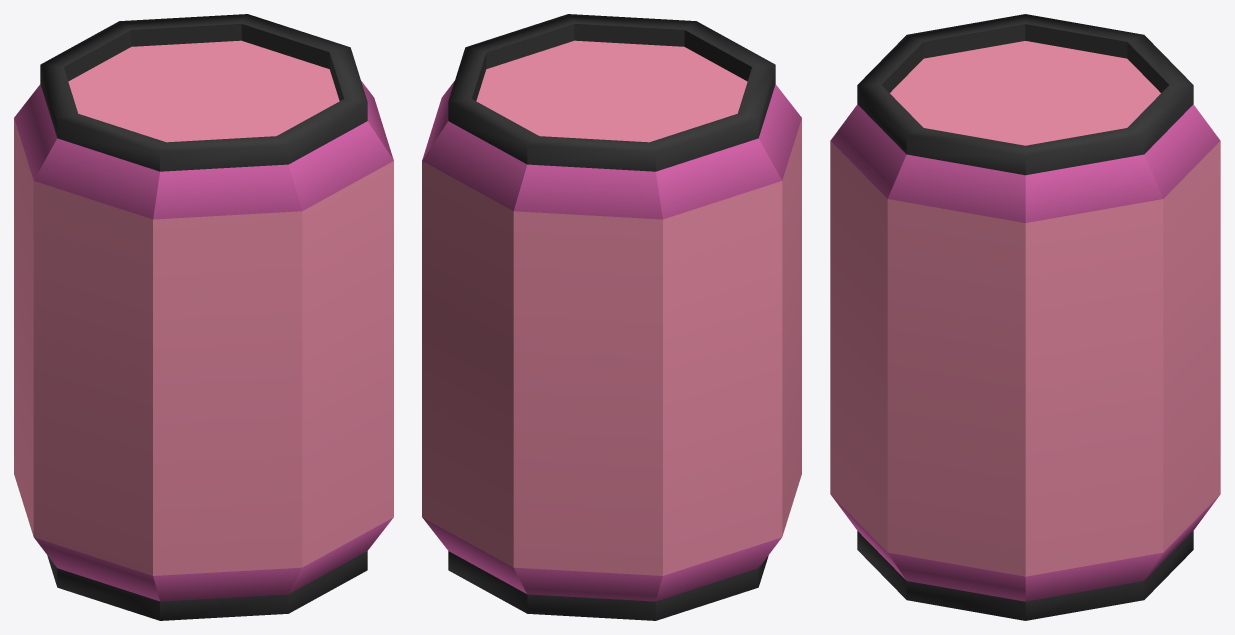
Rendered from Drink_Can_Pink.fbx.
The picture shows the model from 3 angles, left to right: view 1: azimuth 30°, elevation 25°; view 2: azimuth 150°, elevation 25°; view 3: azimuth 270°, elevation 25°; orthographic projection.
Visible parts, largest first — view 1: Drink_Can; view 2: Drink_Can; view 3: Drink_Can.
Boxes of the visible parts, x1,y1,x2,y2 form: Drink_Can: (14, 14, 393, 620); Drink_Can: (422, 14, 801, 620); Drink_Can: (830, 14, 1220, 620).
Bounding box in the file's own units: 14.86 × 19.54 × 14.86.
